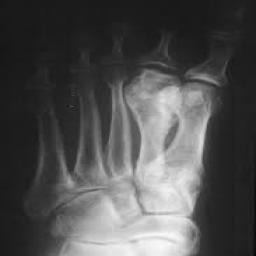cancer: (121, 72, 185, 160)
